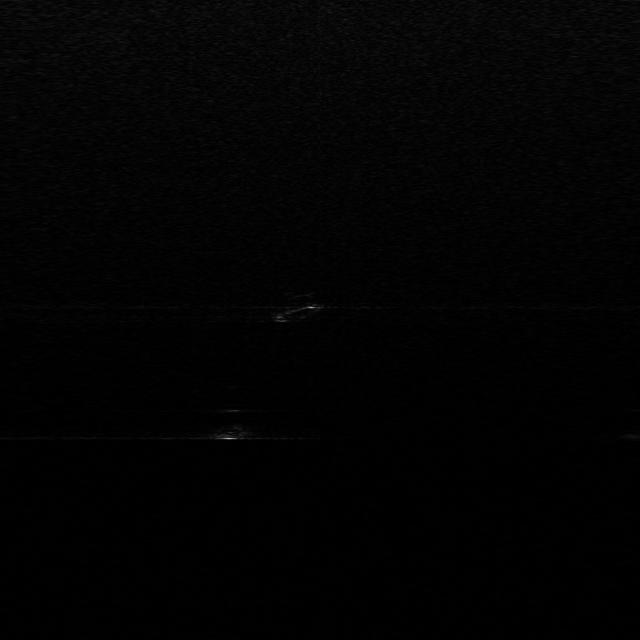ball: (203, 408, 256, 440)
tyre: (267, 291, 322, 324)
